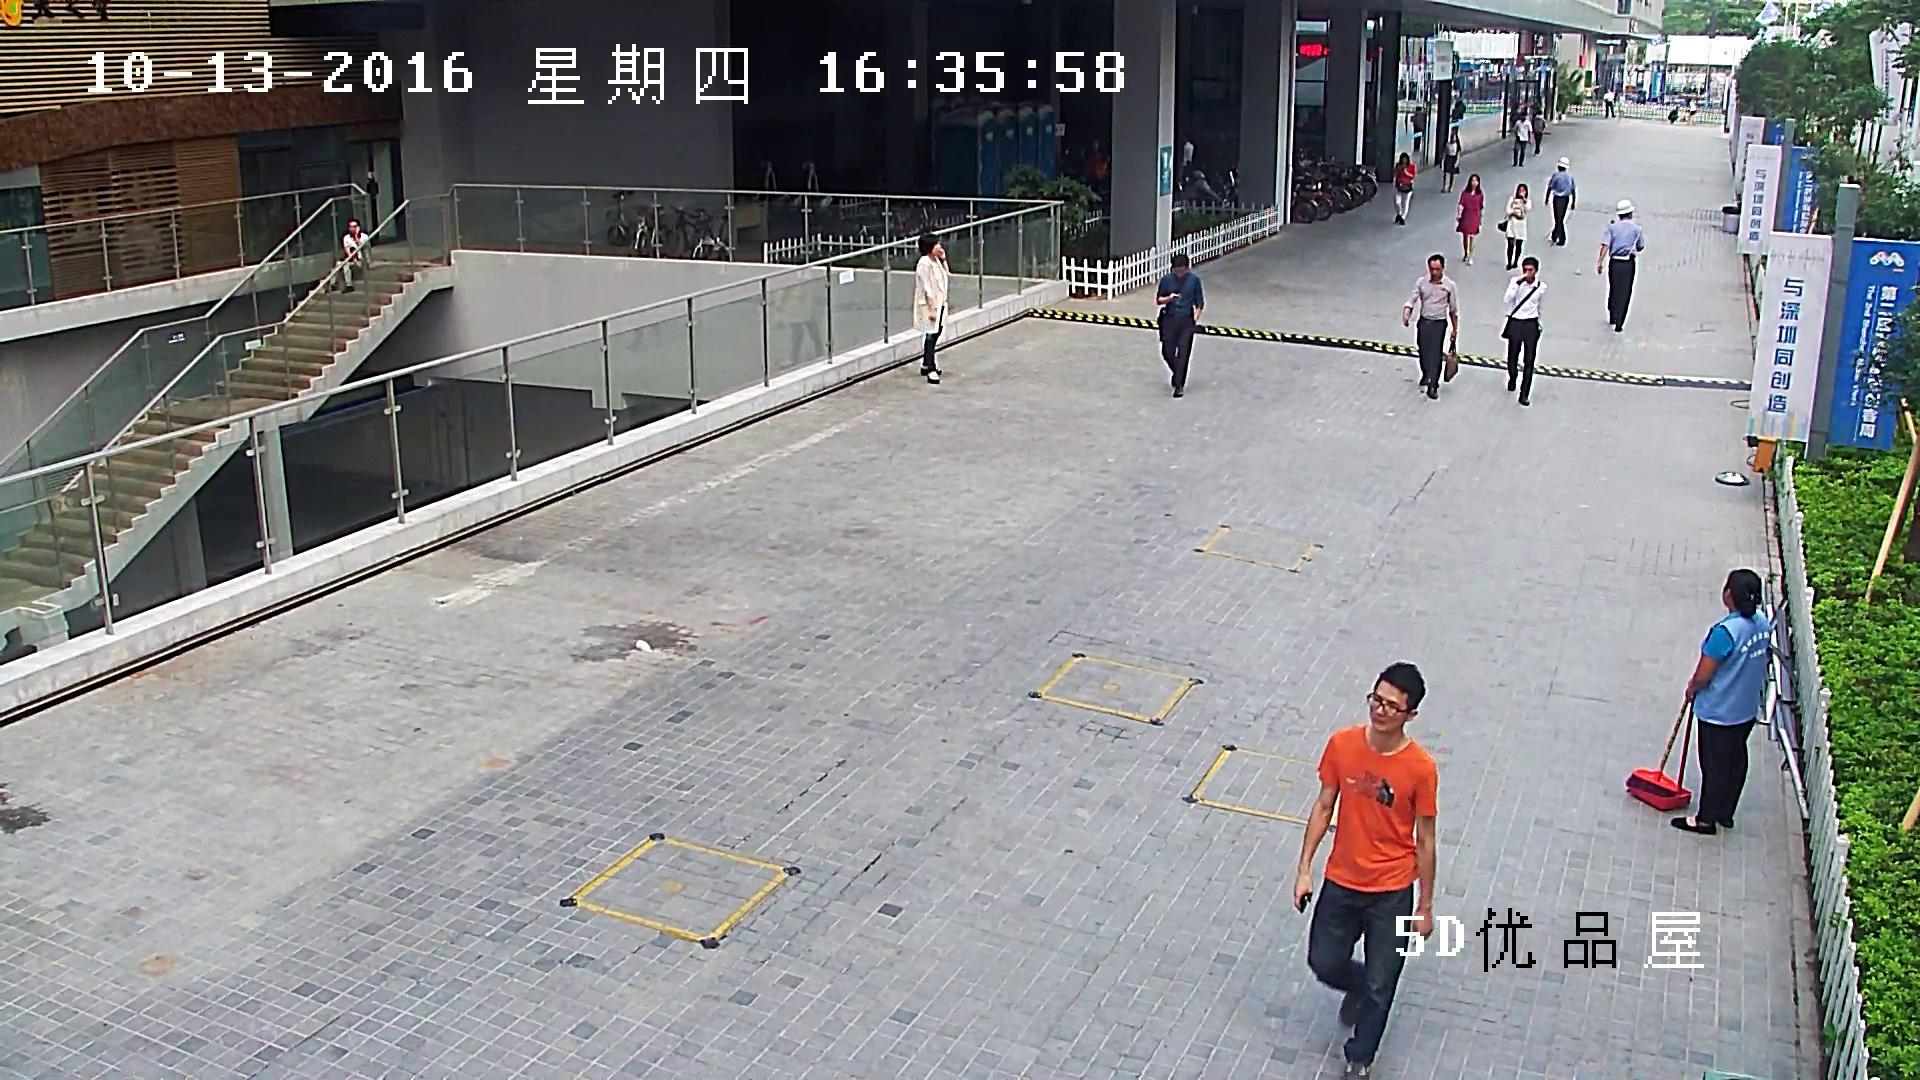person: (1293, 661, 1438, 1080), (1625, 569, 1768, 833), (1671, 569, 1771, 834), (1403, 253, 1458, 399), (1156, 253, 1204, 397), (1501, 256, 1546, 405), (1597, 199, 1645, 331), (913, 234, 948, 384), (776, 281, 824, 366), (324, 218, 369, 293), (1497, 184, 1531, 270), (1544, 156, 1575, 245), (1455, 173, 1484, 264), (1392, 152, 1416, 225), (1439, 132, 1460, 192), (1511, 112, 1532, 166), (1530, 111, 1545, 154), (1410, 105, 1423, 152), (1603, 87, 1615, 118), (1686, 97, 1697, 126), (1667, 106, 1679, 123)
